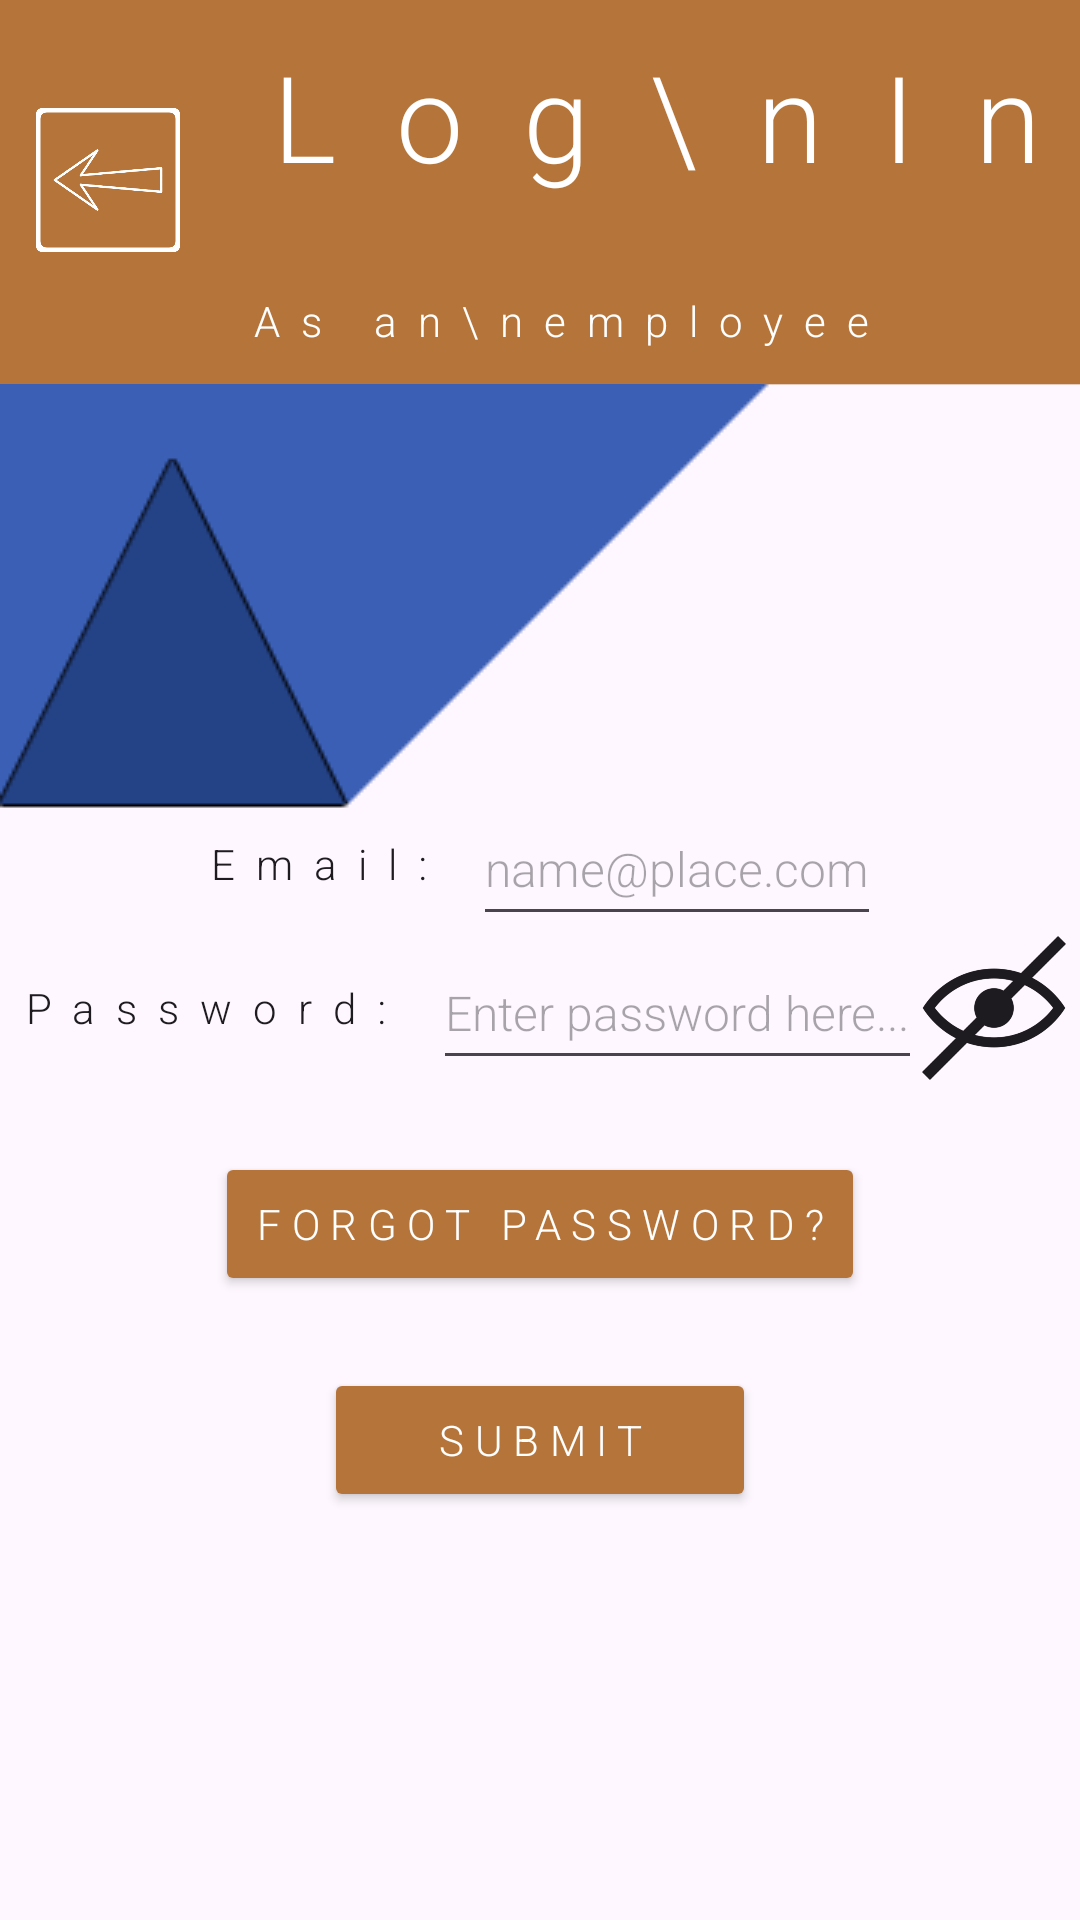

Named icons in this screenshot (1080w x 1920h) and their bounding boxes, (x1, y1, x2, y2):
show password: (922, 936, 1066, 1080)
